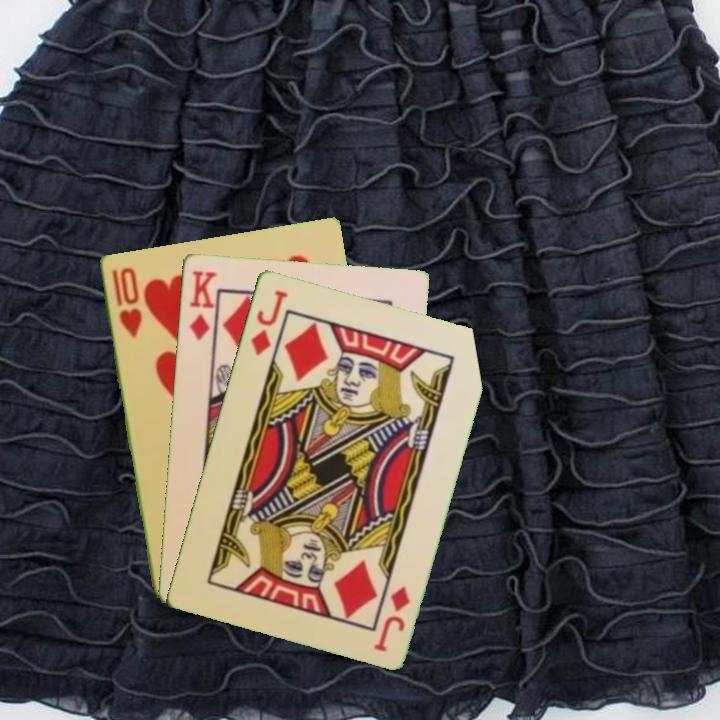10h: (108, 263, 144, 341)
Jd: (247, 286, 290, 358), (370, 582, 413, 654)
Kd: (185, 266, 219, 343)
